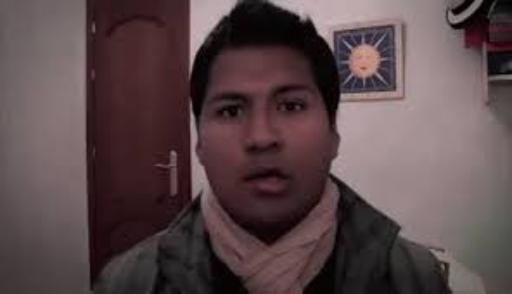left_eye: (278, 100, 312, 115)
left_lip_corner: (280, 170, 296, 184)
right_eye: (213, 104, 245, 122)
right_lip_corner: (239, 173, 254, 187)
